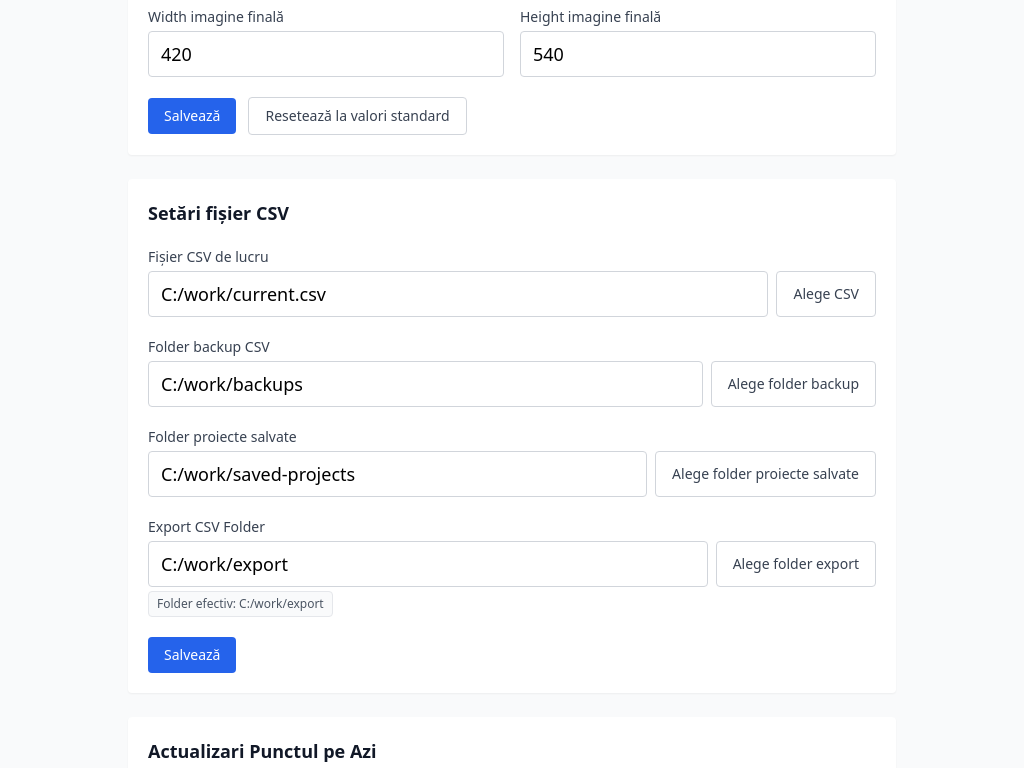
Test: DefaultProjectSettingsPage › selects backup folder through the CSV file settings service
(page scrolled)
Click the button "Alege folder backup".
click(793, 384)  # box [711, 361, 876, 407]
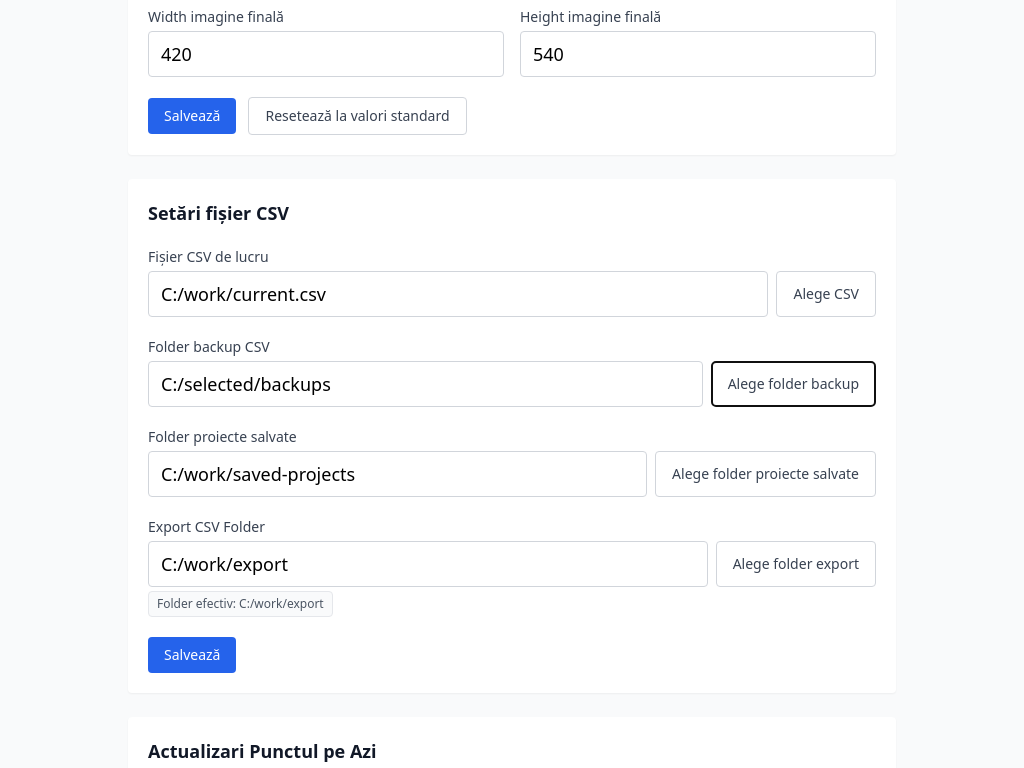
Result: the field labelled "Folder backup CSV" holds "C:/selected/backups" at [148, 361, 703, 407]
